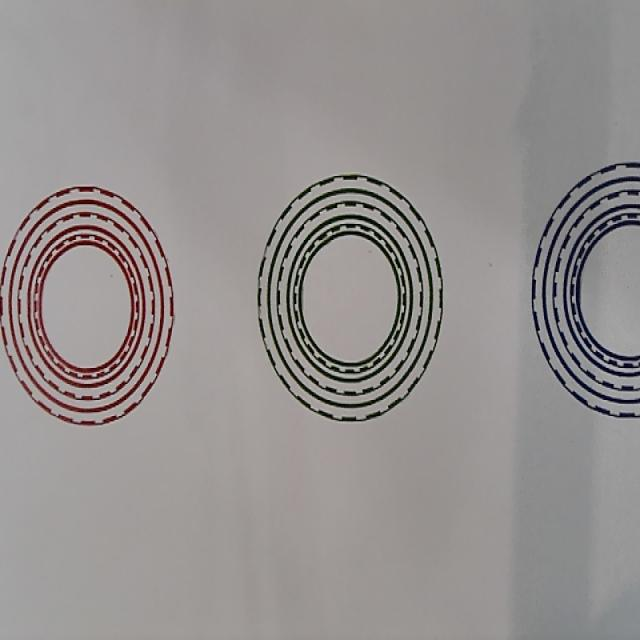g: (256, 173, 444, 424)
red-green-blue: (0, 186, 174, 426)
